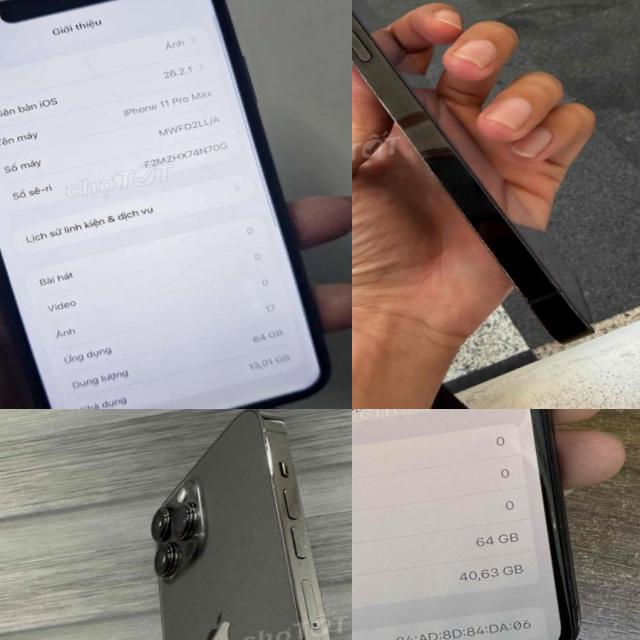gen_11: (0, 0, 352, 409), (352, 409, 576, 640)
gen_12_13: (117, 409, 352, 640)
gen_14: (352, 0, 621, 389)
